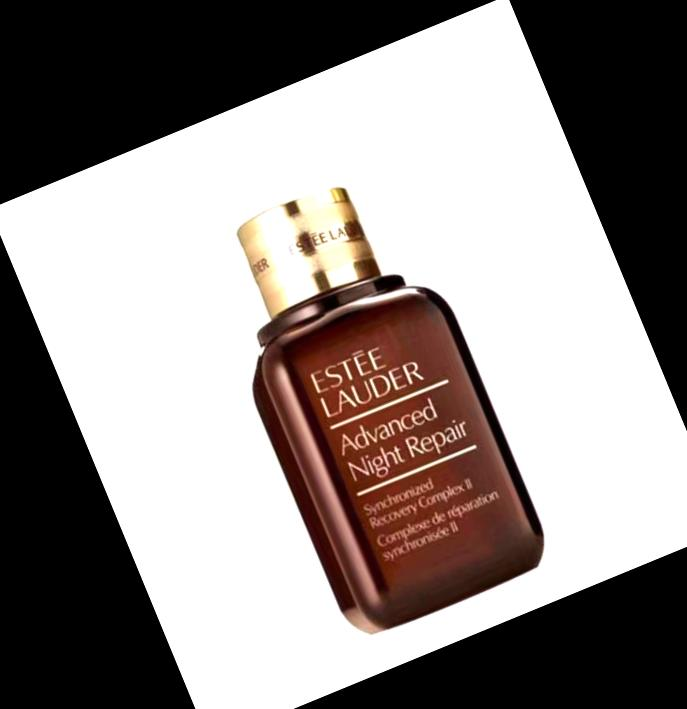cosmetic: (164, 75, 554, 633)
